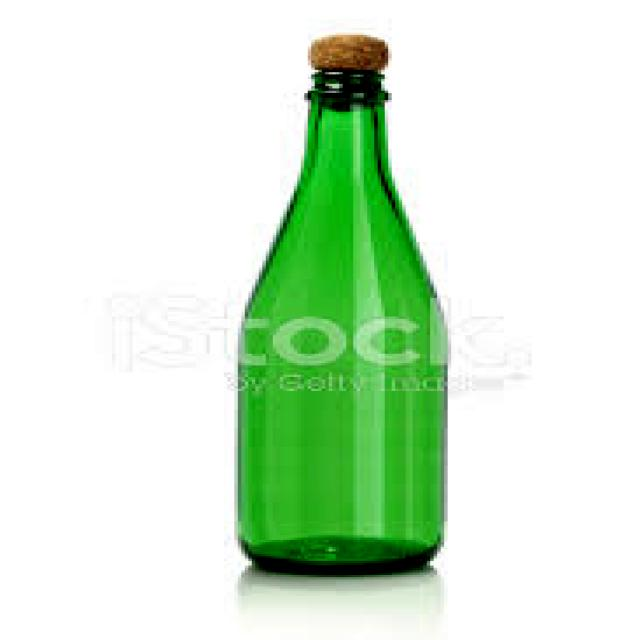Glass: (238, 35, 448, 571)
